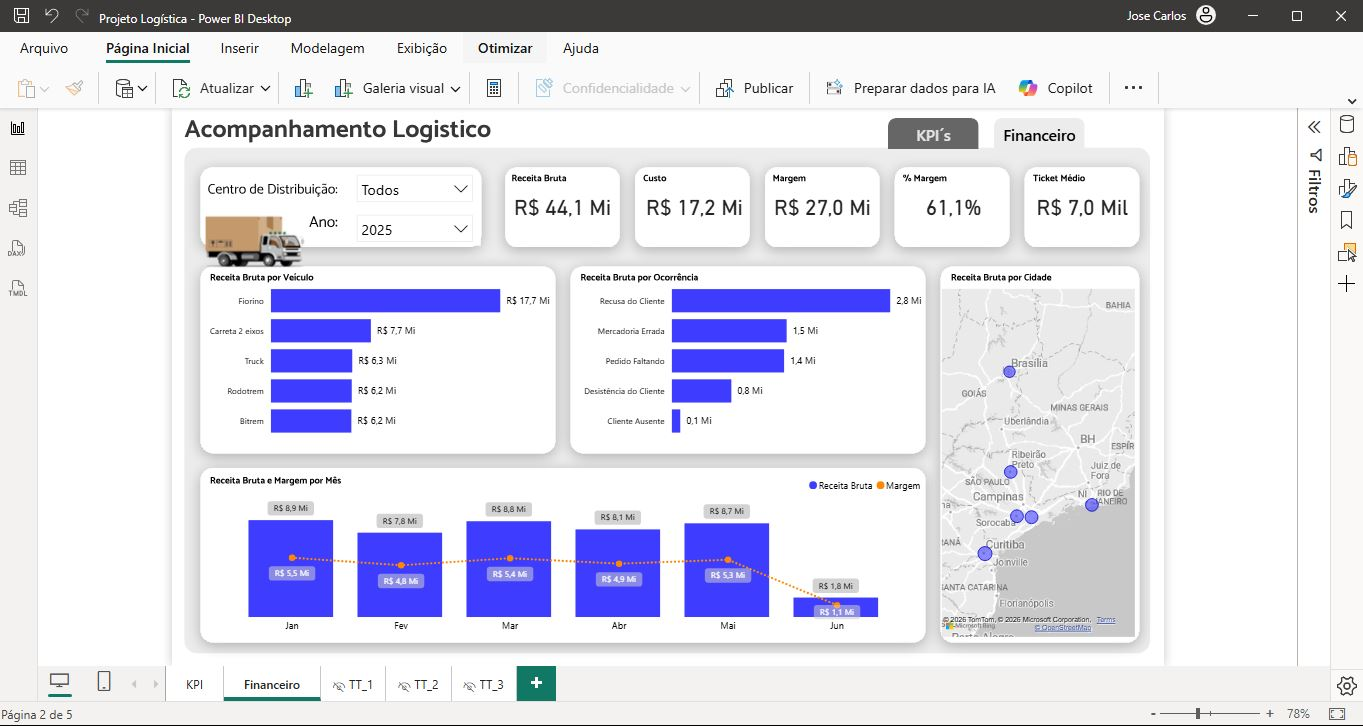

What the dashboard file says about the page in this screenshot:
{"tool":"powerbi","page":{"name":"Financeiro","canvas":[1280,720],"ordinal":1},"visuals":[{"type":"card","fields":{"Values":["Medidas.Receita Bruta"]},"box":[430.9,78,146,99.2],"z":0},{"type":"card","fields":{"Values":["Medidas.Custo Total"]},"box":[600.8,77.1,145.6,98.5],"z":1000},{"type":"card","fields":{"Values":["Medidas.Margem"]},"box":[766.3,77.1,145.6,98.5],"z":2000},{"type":"card","fields":{"Values":["Medidas.% Margem"]},"box":[936.1,77.1,145.6,98.5],"z":3000},{"type":"card","fields":{"Values":["Medidas.Ticket Médio"]},"box":[1101.6,77.1,145.6,98.5],"z":4000},{"type":"map","fields":{"Category":["Fato_Pedidos.Cidade"],"Size":["Medidas.Receita Bruta"]},"box":[988.4,228.5,259.2,458.5],"z":5000},{"type":"clusteredBarChart","fields":{"Category":["Dim_Transporte.Veiculo"],"Y":["Medidas.Receita Bruta"]},"box":[36.9,205.5,456.4,235.3],"z":6000},{"type":"slicer","fields":{"Values":["Dim_CD.Nome"]},"box":[228.2,76,170,50],"z":7000},{"type":"slicer","fields":{"Values":["dCalendario.Ano"]},"box":[228.2,128.3,170,50],"z":8000},{"type":"clusteredBarChart","fields":{"Category":["Dim_Status.Motivo"],"Y":["Medidas.Receita Bruta COM Ocorrência"]},"box":[518.7,205.5,456.4,235.3],"z":9000},{"type":"lineStackedColumnComboChart","fields":{"Category":["dCalendario.MesAbrev"],"Y":["Medidas.Receita Bruta"],"Y2":["Medidas.Margem"]},"box":[36.9,467.7,938.3,219.7],"z":10000},{"type":"actionButton","box":[1060,12.9,117.1,40],"z":10003},{"type":"actionButton","box":[924.3,12.9,117.1,40],"z":10004}]}

Visuals, with their boxes on the page's 1280x720 design canvas (x1, y1, x2, y2). These are canvas units, not pixel positions in the 1363x726 screenshot, which may show the page scaled, cropped or inside an application window:
card - Medidas.Receita Bruta: <box>431,78,577,177</box>
card - Medidas.Custo Total: <box>601,77,746,176</box>
card - Medidas.Margem: <box>766,77,912,176</box>
card - Medidas.% Margem: <box>936,77,1082,176</box>
card - Medidas.Ticket Médio: <box>1102,77,1247,176</box>
map - Fato_Pedidos.Cidade x Medidas.Receita Bruta: <box>988,228,1248,687</box>
clusteredBarChart - Dim_Transporte.Veiculo x Medidas.Receita Bruta: <box>37,206,493,441</box>
slicer - Dim_CD.Nome: <box>228,76,398,126</box>
slicer - dCalendario.Ano: <box>228,128,398,178</box>
clusteredBarChart - Dim_Status.Motivo x Medidas.Receita Bruta COM Ocorrência: <box>519,206,975,441</box>
lineStackedColumnComboChart - dCalendario.MesAbrev x Medidas.Receita Bruta: <box>37,468,975,687</box>
actionButton: <box>1060,13,1177,53</box>
actionButton: <box>924,13,1041,53</box>
